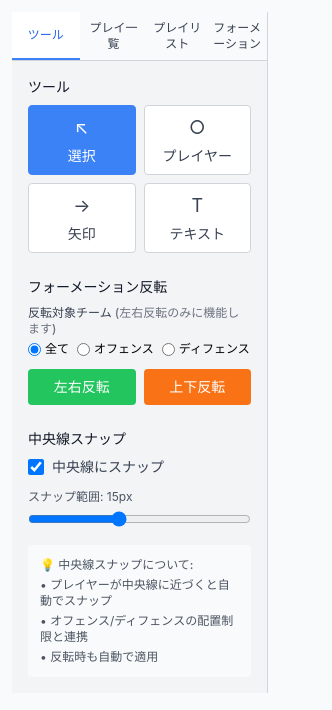
Sidebar Component › 左右反転機能 › チーム選択を変更できること
The image size is (332, 710).
Click the radio button labelled "オフェンス": x=84, y=349 [77,342,90,356]
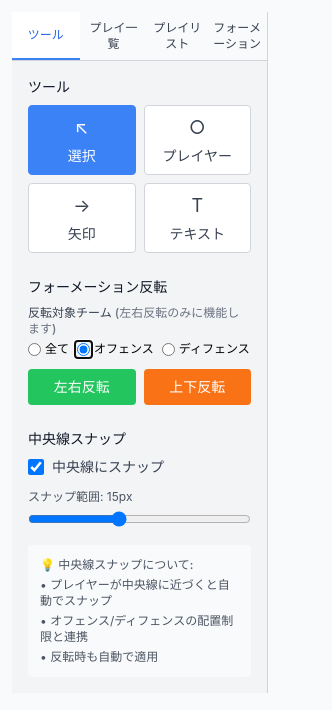
Expected: the radio button labelled "ディフェンス" is not checked, [162,342,175,356]
Expected: the radio button labelled "オフェンス" is checked, [77,342,90,356]
Expected: the radio button labelled "全て" is not checked, [28,342,41,356]
